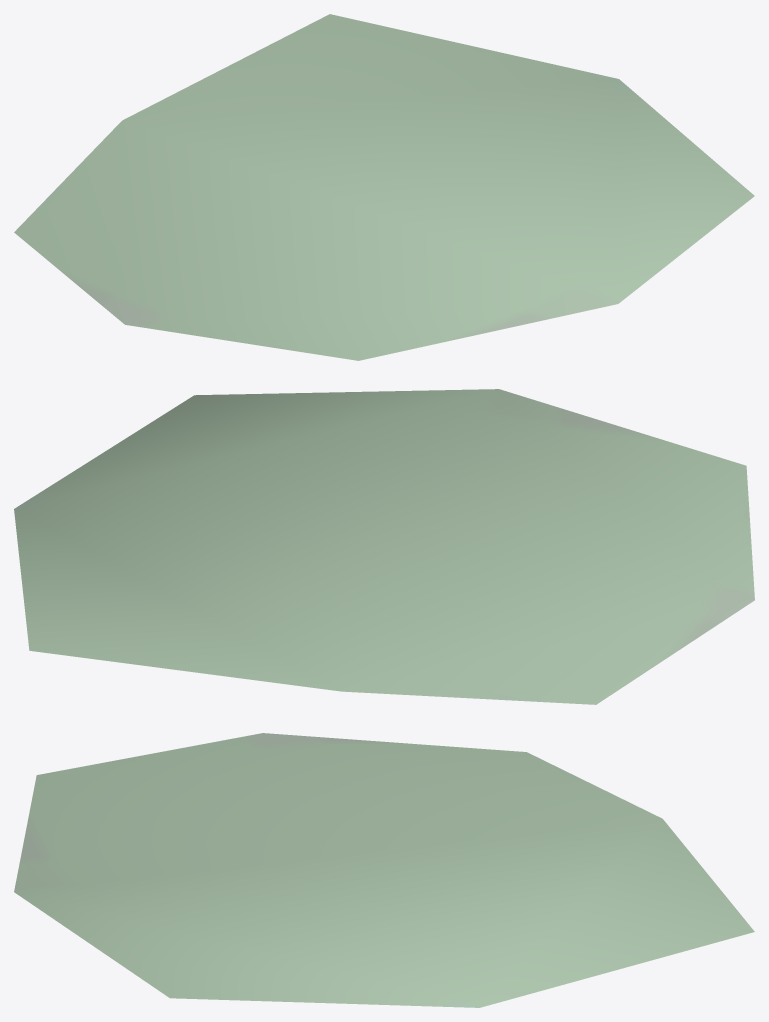
File: TROLLHOLE02_HOLECAP21.fbx
3 renders of one model, top to bottom at view 1: azimuth 30°, elevation 25°; view 2: azimuth 150°, elevation 25°; view 3: azimuth 270°, elevation 25°, orthographic. The views are drawn at different scales.
Parts seen in each view (by area): view 1: TROLLHOLE02_HOLECAP21; view 2: TROLLHOLE02_HOLECAP21; view 3: TROLLHOLE02_HOLECAP21.
Part boxes in pixels (x1,y1,x2,y2): TROLLHOLE02_HOLECAP21: (14,14,754,360); TROLLHOLE02_HOLECAP21: (14,389,754,704); TROLLHOLE02_HOLECAP21: (14,733,754,1007).
Bounding box in the file's own units: 33340 × 1614 × 35424.
Materials: 1 (1 with a texture image).
